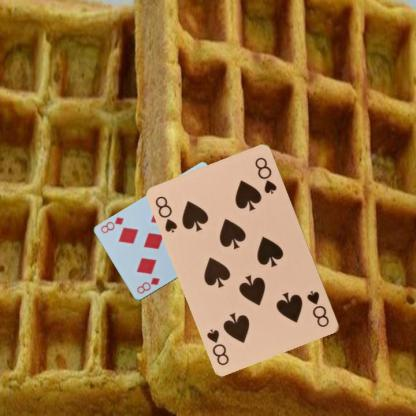8d: (134, 275, 161, 295)
8s: (305, 288, 331, 329), (153, 194, 179, 234)
